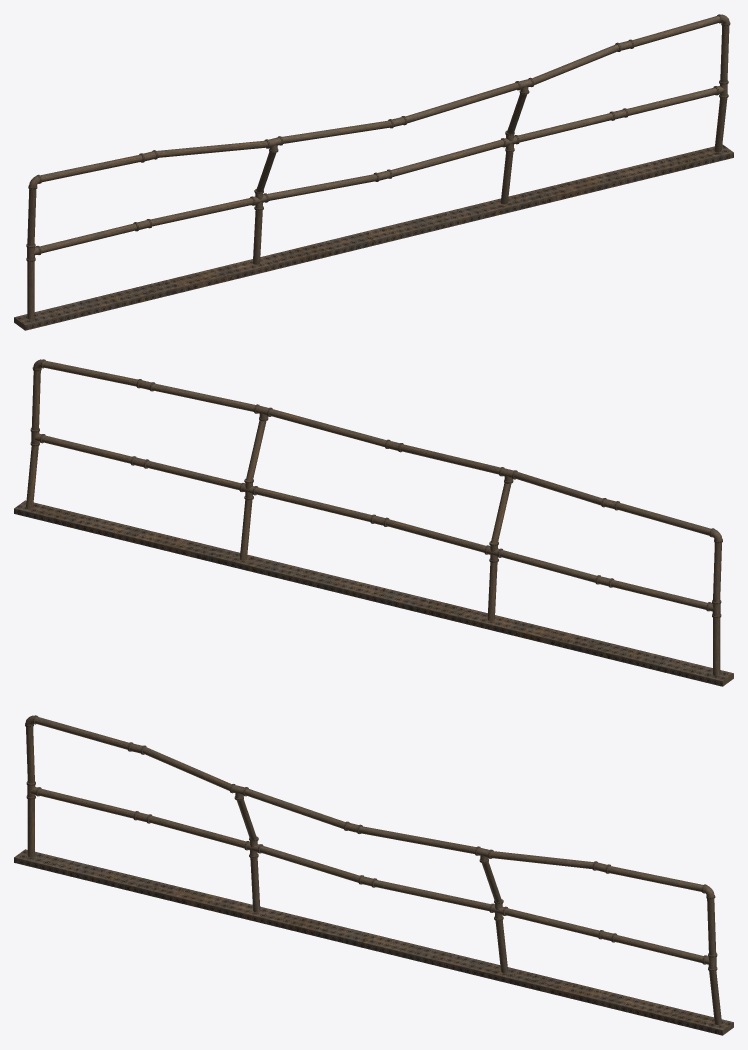
Rendered from handrail.fbx.
3 renders of one model, top to bottom at view 1: azimuth 30°, elevation 25°; view 2: azimuth 150°, elevation 25°; view 3: azimuth 330°, elevation 25°, orthographic.
Visible parts, largest first — view 1: Mesh; view 2: Mesh; view 3: Mesh.
Part boxes in pixels (x1,y1,x2,y2): Mesh: (14, 14, 733, 330); Mesh: (14, 359, 733, 686); Mesh: (14, 715, 733, 1035).
Size of the model in its own units: 423 by 84.76 by 30.89.
